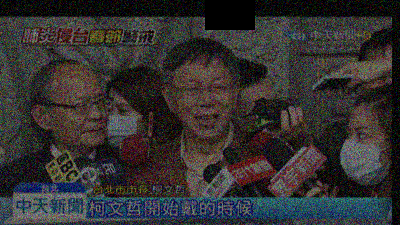with_mask: (338, 123, 389, 183), (103, 101, 146, 152)
without_mask: (172, 72, 234, 142), (46, 88, 106, 152)
